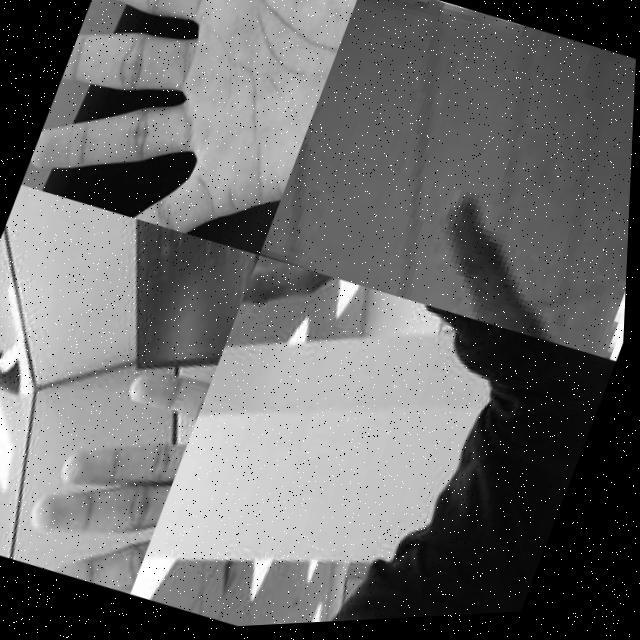no-gloves: (256, 132, 634, 383), (19, 0, 364, 268), (13, 328, 220, 600), (224, 253, 379, 393)
